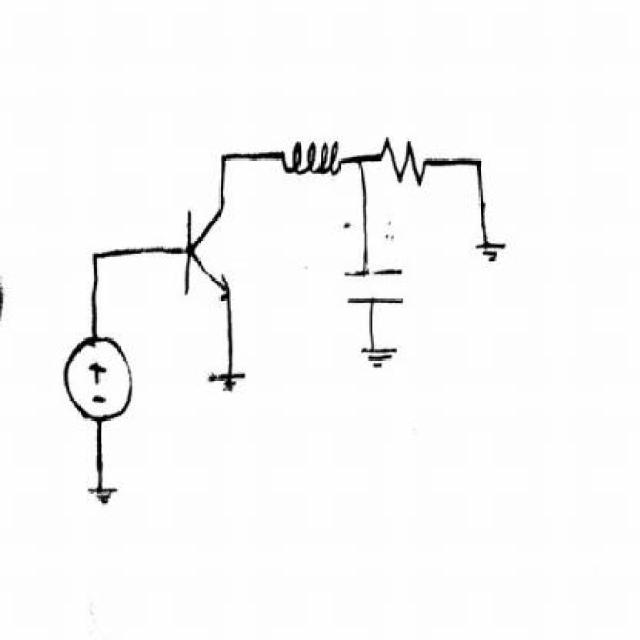capacitor: (335, 256, 416, 314)
ground: (78, 471, 135, 519), (462, 233, 520, 280), (357, 332, 406, 380), (205, 363, 258, 404)
inductor: (265, 128, 349, 189)
resistor: (370, 126, 440, 196)
transistor: (177, 208, 248, 310)
voltage_source: (58, 330, 142, 432)
